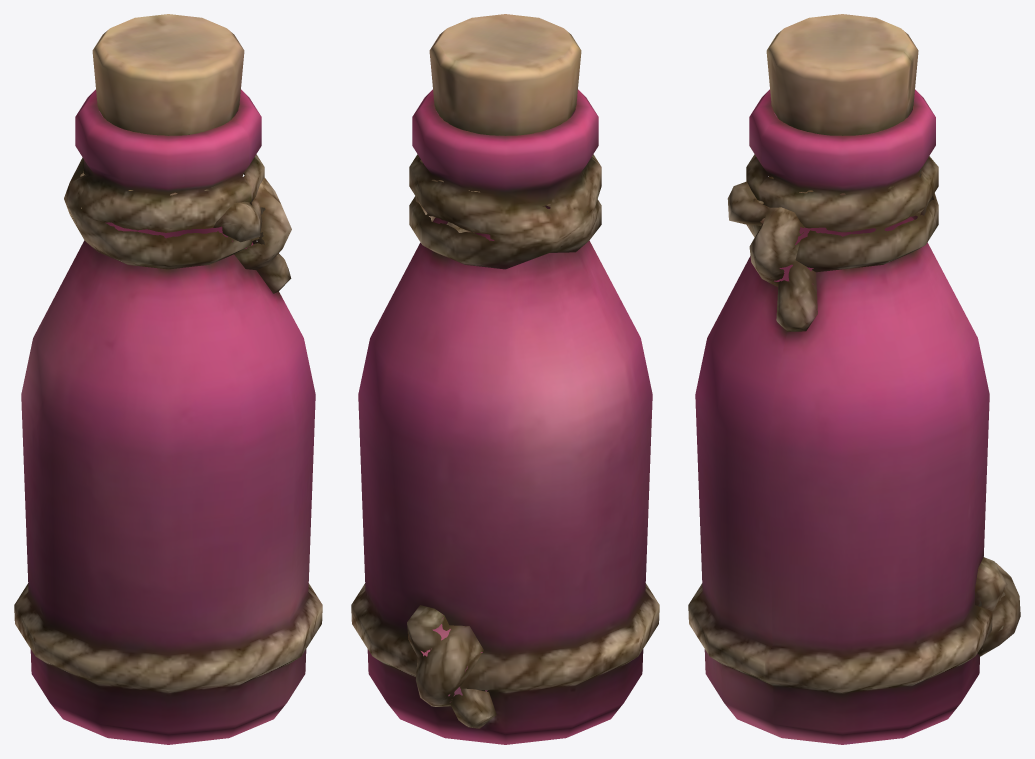
The picture shows the model from 3 angles, left to right: view 1: azimuth 30°, elevation 25°; view 2: azimuth 150°, elevation 25°; view 3: azimuth 270°, elevation 25°; orthographic projection.
Parts seen in each view (by area): view 1: SM_Lesser_Pink_Potion_LOD0; view 2: SM_Lesser_Pink_Potion_LOD0; view 3: SM_Lesser_Pink_Potion_LOD0.
Part boxes in pixels (x1=…): SM_Lesser_Pink_Potion_LOD0: x1=14, y1=14, x2=322, y2=744; SM_Lesser_Pink_Potion_LOD0: x1=351, y1=14, x2=659, y2=744; SM_Lesser_Pink_Potion_LOD0: x1=688, y1=14, x2=1020, y2=744.
Bounding box in the file's own units: 0.1019 × 0.2372 × 0.1098.
1 material, 1 textured.
